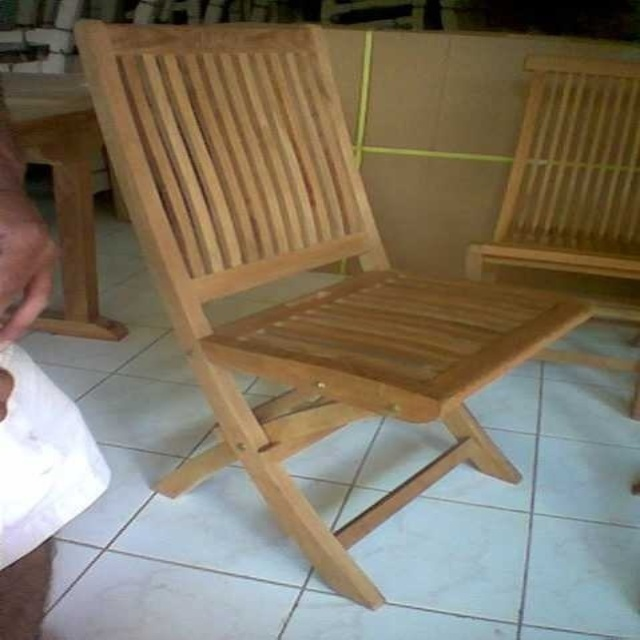obstacle: (77, 22, 589, 607)
